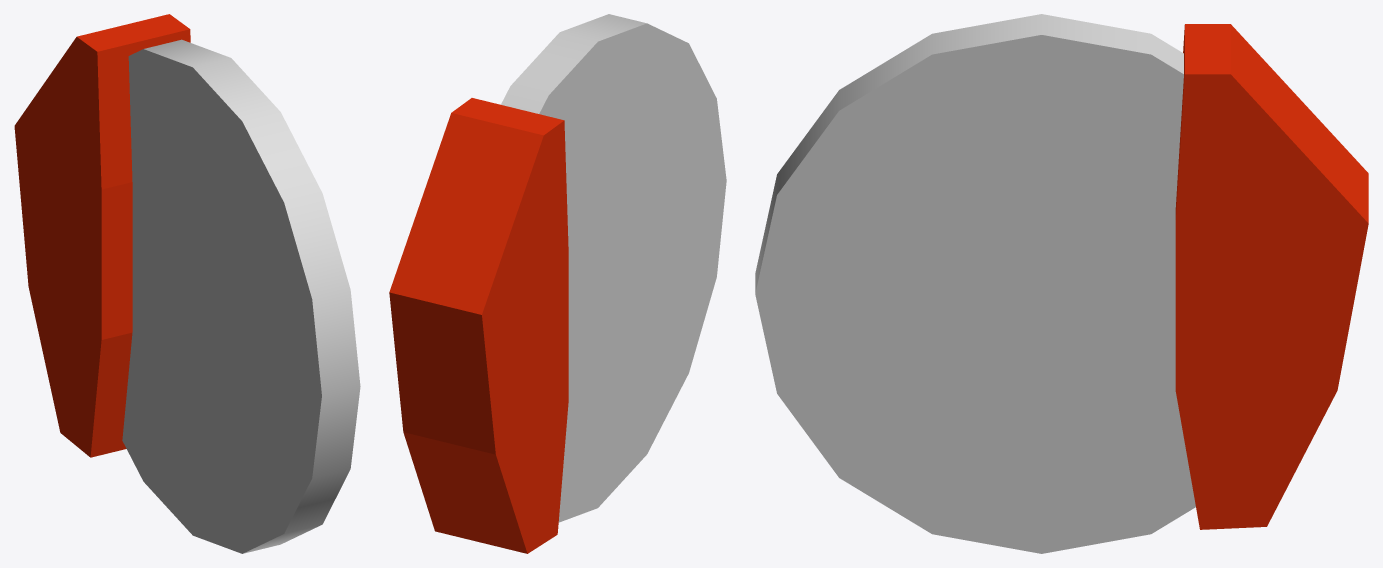
File: carbrake.fbx
3 renders of one model, left to right at view 1: azimuth 30°, elevation 25°; view 2: azimuth 150°, elevation 25°; view 3: azimuth 270°, elevation 25°, orthographic. The views are drawn at different scales.
Parts seen in each view (by area): view 1: BrakeDisc; view 2: BrakeDisc; view 3: BrakeDisc.
Boxes of the visible parts, x1=… form: BrakeDisc: x1=14, y1=14, x2=360, y2=553; BrakeDisc: x1=389, y1=14, x2=726, y2=553; BrakeDisc: x1=755, y1=14, x2=1368, y2=553.
Bounding box in the file's own units: 8.51 × 40.97 × 43.87.
